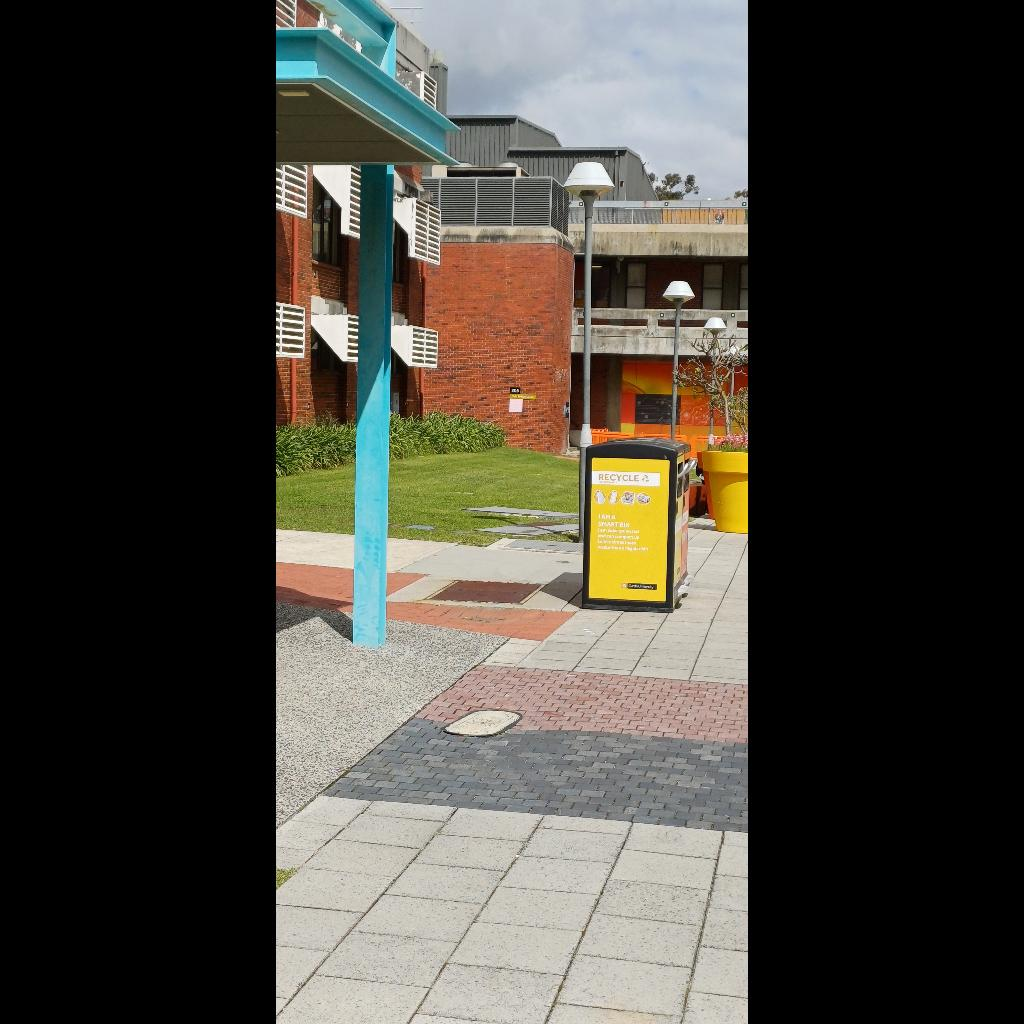BuildingCodes: (510, 387, 520, 393)
